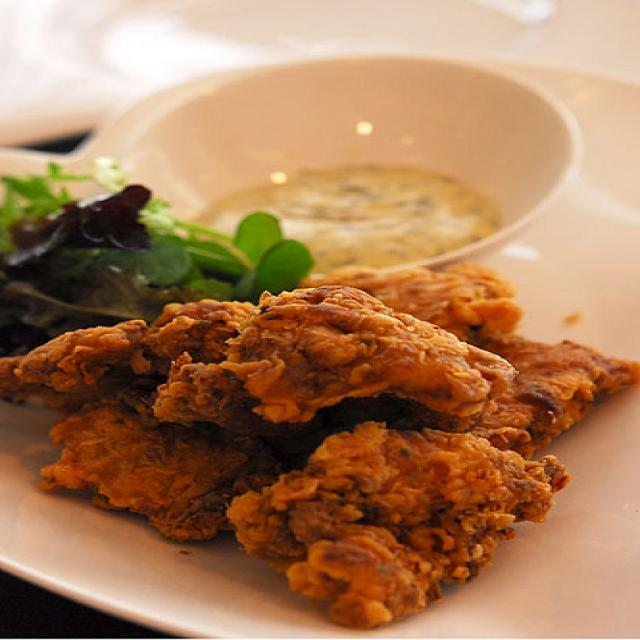鸡肉料理 含炸鸡: (0, 219, 640, 640)
